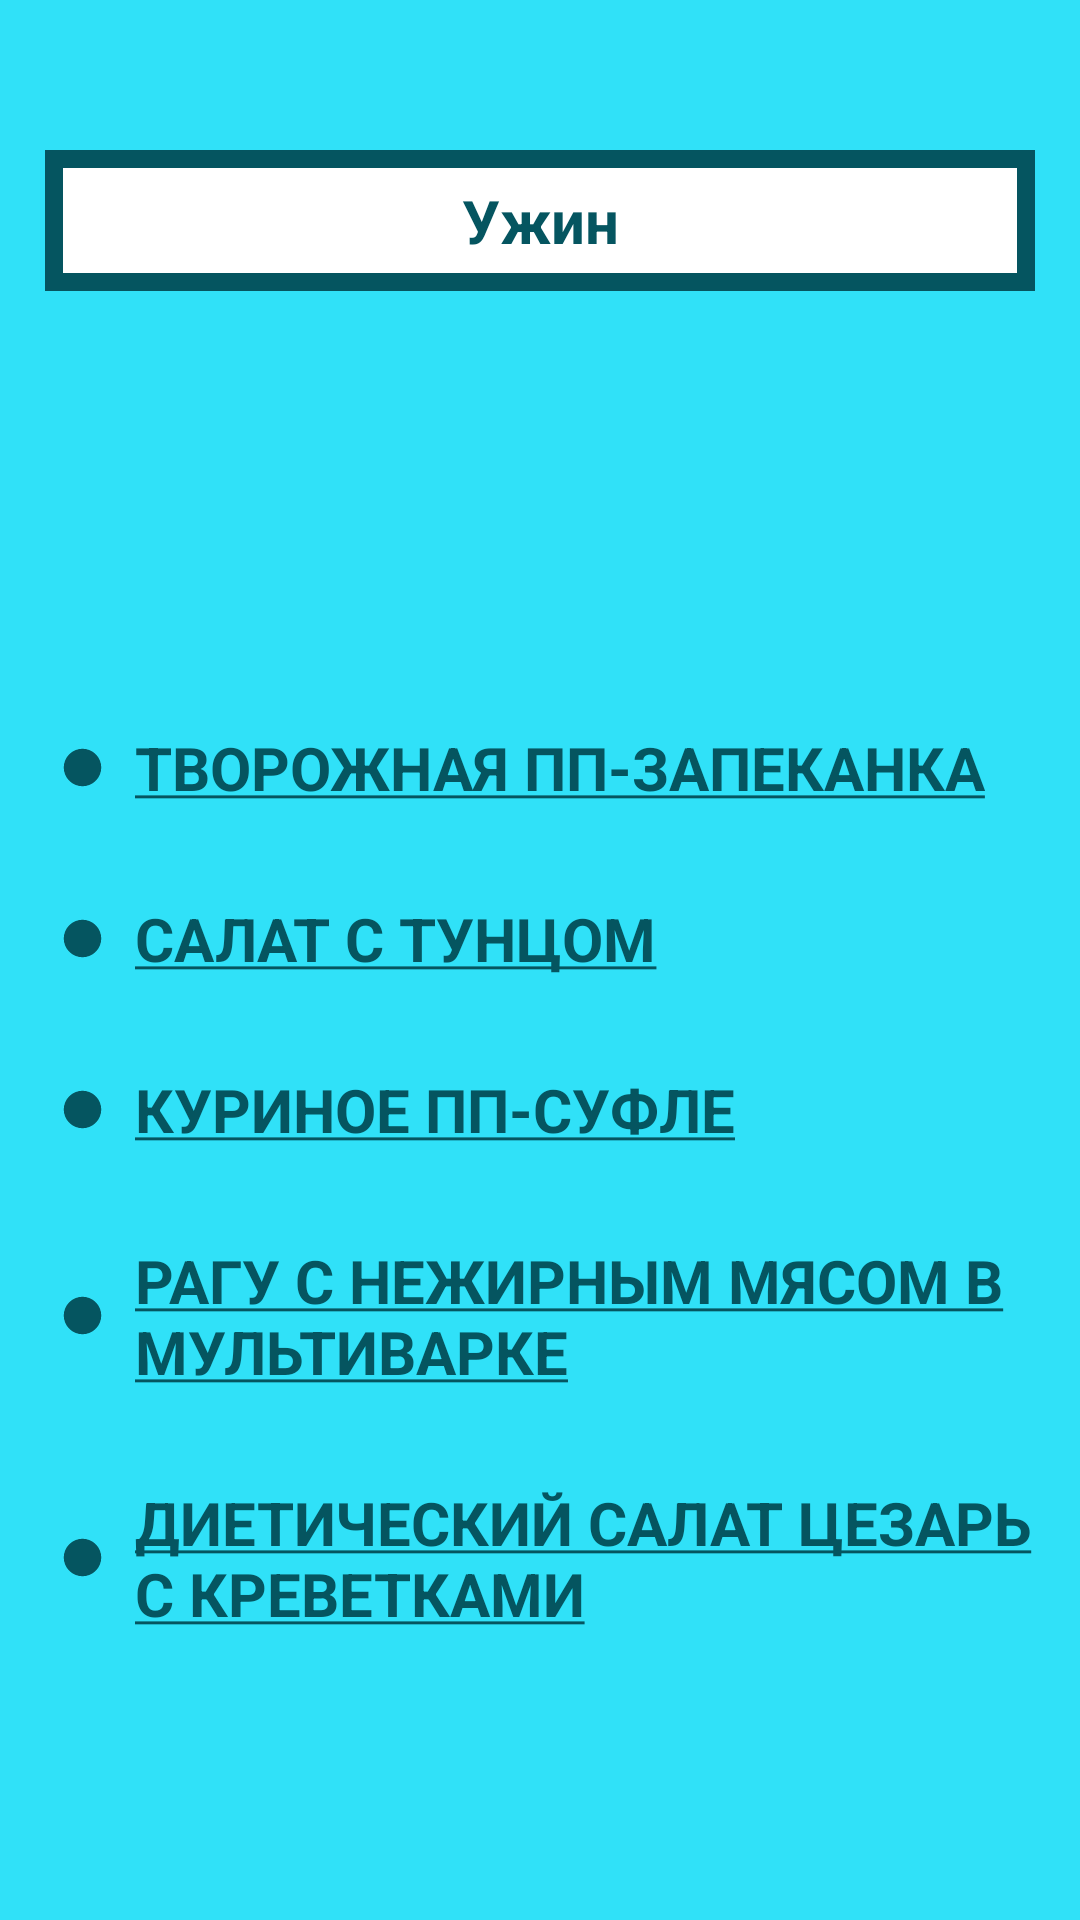

Icons on this 1080px×1920px Android screen, each with its box as (x1, y1, x2, y2):
tochka: (63, 748, 102, 787), (63, 919, 102, 958), (63, 1090, 102, 1129), (63, 1296, 102, 1335), (63, 1538, 102, 1577)
